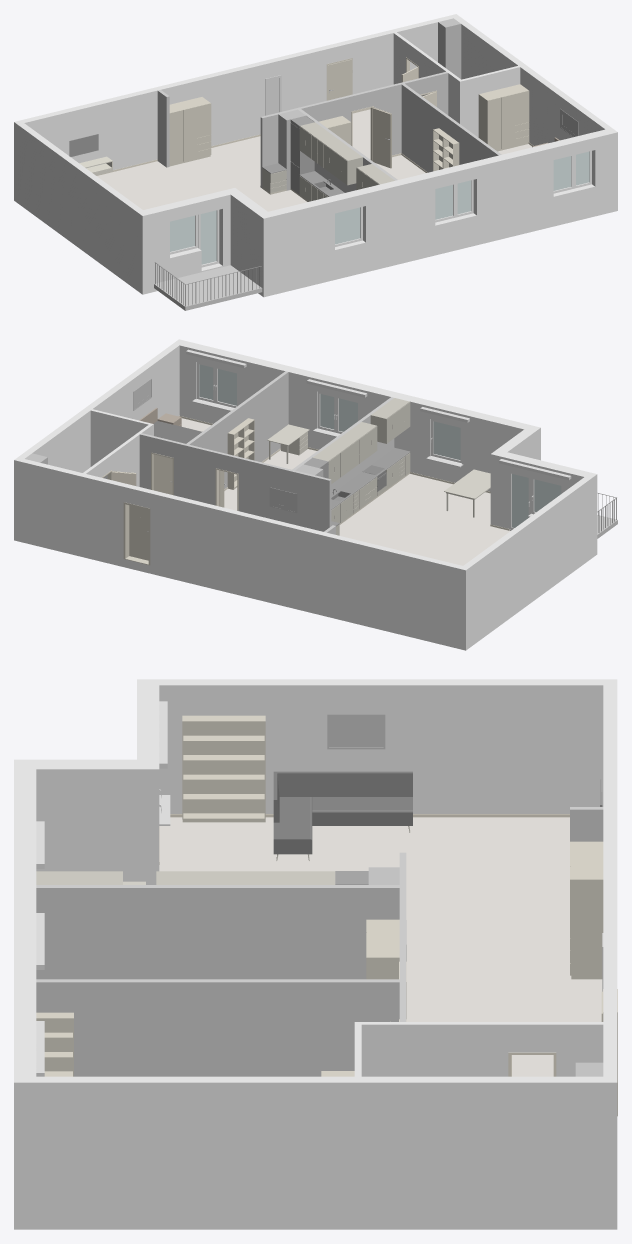
File: flattest4.gltf
3 renders of one model, top to bottom at view 1: azimuth 30°, elevation 25°; view 2: azimuth 150°, elevation 25°; view 3: azimuth 270°, elevation 25°, orthographic. The views are drawn at different scales.
Parts seen in each view (by area): view 1: Mesh169 _ciana_balkon Model, Mesh232 Sciana_drzwi Model, Mesh168 Sciana_sofa Model, Mesh103 Group75 Model, Mesh167 Sciana_lazienka Model, Mesh172 Sciana_lazienka2 Model, Mesh176 Sciana_lazienka6 Model, Mesh170 Group_4_1 Model, Mesh173 Sciana_lazienka3 Model, Mesh174 Sciana_lazienka4 Model, Mesh266 Group_8_1 Model, Mesh208 Group_38_1 Group117 Group_53_1 Model (+25 smaller); view 2: Mesh232 Sciana_drzwi Model, Mesh169 _ciana_balkon Model, Mesh168 Sciana_sofa Model, Mesh103 Group75 Model, Mesh172 Sciana_lazienka2 Model, Mesh167 Sciana_lazienka Model, Mesh176 Sciana_lazienka6 Model, Mesh173 Sciana_lazienka3 Model, Mesh174 Sciana_lazienka4 Model, Mesh171 Sciana_lazienka1 Model, Mesh20 Group19 Model, Mesh6 Group_31_1 Group1 Model (+15 smaller); view 3: Mesh167 Sciana_lazienka Model, Mesh103 Group75 Model, Mesh168 Sciana_sofa Model, Mesh171 Sciana_lazienka1 Model, Mesh176 Sciana_lazienka6 Model, Mesh169 _ciana_balkon Model, Mesh174 Sciana_lazienka4 Model, Mesh232 Sciana_drzwi Model, Mesh316 Group176 Group_196_1 Model, Mesh290 Group154 Group_60_1 Model, Mesh121 Group97 Group96 Model, Mesh124 Group100 Group96 Model (+6 smaller).
Boxes of the visible parts, <box> form: Mesh169 _ciana_balkon Model: <box>136,128,617,297</box>; Mesh232 Sciana_drzwi Model: <box>14,14,459,202</box>; Mesh168 Sciana_sofa Model: <box>17,123,142,289</box>; Mesh103 Group75 Model: <box>97,109,531,211</box>; Mesh167 Sciana_lazienka Model: <box>454,17,611,145</box>; Mesh172 Sciana_lazienka2 Model: <box>260,71,448,188</box>; Mesh176 Sciana_lazienka6 Model: <box>401,83,501,172</box>; Mesh170 Group_4_1 Model: <box>154,265,262,310</box>; Mesh173 Sciana_lazienka3 Model: <box>458,65,520,137</box>; Mesh174 Sciana_lazienka4 Model: <box>393,32,460,122</box>; Mesh266 Group_8_1 Model: <box>438,18,461,78</box>; Mesh208 Group_38_1 Group117 Group_53_1 Model: <box>372,107,391,168</box>; Mesh232 Sciana_drzwi Model: <box>14,457,469,650</box>; Mesh169 _ciana_balkon Model: <box>173,339,597,558</box>; Mesh168 Sciana_sofa Model: <box>463,477,591,647</box>; Mesh103 Group75 Model: <box>181,418,510,565</box>; Mesh172 Sciana_lazienka2 Model: <box>139,433,331,531</box>; Mesh167 Sciana_lazienka Model: <box>18,344,179,472</box>; Mesh176 Sciana_lazienka6 Model: <box>186,371,288,488</box>; Mesh173 Sciana_lazienka3 Model: <box>90,409,153,478</box>; Mesh174 Sciana_lazienka4 Model: <box>83,425,151,486</box>; Mesh171 Sciana_lazienka1 Model: <box>292,397,394,493</box>; Mesh20 Group19 Model: <box>331,447,410,509</box>; Mesh6 Group_31_1 Group1 Model: <box>129,505,148,560</box>; Mesh167 Sciana_lazienka Model: <box>36,1076,603,1229</box>; Mesh103 Group75 Model: <box>159,817,602,1076</box>; Mesh168 Sciana_sofa Model: <box>159,679,603,813</box>; Mesh171 Sciana_lazienka1 Model: <box>36,885,399,979</box>; Mesh176 Sciana_lazienka6 Model: <box>36,979,399,1076</box>; Mesh169 _ciana_balkon Model: <box>14,679,159,1229</box>; Mesh174 Sciana_lazienka4 Model: <box>361,1022,603,1076</box>; Mesh232 Sciana_drzwi Model: <box>603,679,617,1229</box>; Mesh316 Group176 Group_196_1 Model: <box>182,715,265,819</box>; Mesh290 Group154 Group_60_1 Model: <box>570,841,603,975</box>; Mesh121 Group97 Group96 Model: <box>273,797,412,849</box>; Mesh124 Group100 Group96 Model: <box>273,771,412,822</box>.
Size of the model in its own units: 14.08 by 2.39 by 8.92.
